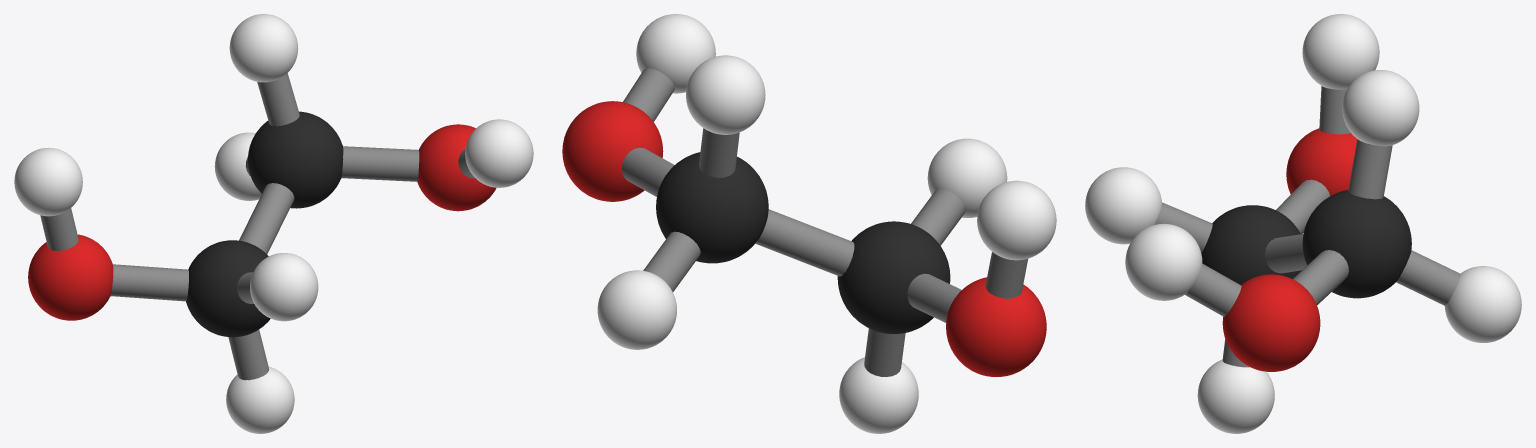
File: ethan-1-2-diol.glb
The picture shows the model from 3 angles, left to right: view 1: azimuth 30°, elevation 25°; view 2: azimuth 150°, elevation 25°; view 3: azimuth 270°, elevation 25°; orthographic projection. The views are drawn at different scales.
Parts seen in each view (by area): view 1: C_2, C_1, O_0, O_3, H_4, H_9, H_6, H_7, H_5, B2, B0, B1 (+4 smaller); view 2: C_2, C_1, O_0, O_3, H_4, H_7, H_8, H_5, H_9, H_6, B1, B7 (+7 smaller); view 3: C_2, O_3, C_1, H_7, H_9, H_8, H_6, H_4, H_5, O_0, B7, B6 (+6 smaller).
Boxes of the visible parts, left/top/right/bottom form: C_2: left=248, top=111, right=343, bottom=208; C_1: left=186, top=240, right=270, bottom=337; O_0: left=28, top=234, right=113, bottom=320; O_3: left=417, top=124, right=496, bottom=211; H_4: left=14, top=147, right=82, bottom=216; H_9: left=465, top=119, right=533, bottom=187; H_6: left=250, top=253, right=318, bottom=321; H_7: left=229, top=14, right=298, bottom=82; H_5: left=226, top=366, right=294, bottom=433; B2: left=341, top=146, right=419, bottom=181; B0: left=110, top=264, right=188, bottom=301; B1: left=239, top=183, right=294, bottom=254; C_2: left=656, top=152, right=768, bottom=263; C_1: left=837, top=221, right=950, bottom=333; O_0: left=946, top=277, right=1046, bottom=377; O_3: left=562, top=101, right=663, bottom=201; H_4: left=977, top=180, right=1056, bottom=260; H_7: left=686, top=55, right=765, bottom=134; H_8: left=597, top=270, right=676, bottom=349; H_5: left=839, top=357, right=918, bottom=433; H_9: left=636, top=14, right=715, bottom=93; H_6: left=927, top=138, right=1007, bottom=217; B1: left=755, top=209, right=854, bottom=276; B7: left=643, top=231, right=700, bottom=291; C_2: left=1302, top=190, right=1411, bottom=298; O_3: left=1222, top=274, right=1320, bottom=371; C_1: left=1201, top=205, right=1301, bottom=284; H_7: left=1342, top=70, right=1419, bottom=146; H_9: left=1125, top=223, right=1202, bottom=300; H_8: left=1444, top=266, right=1521, bottom=342; H_6: left=1085, top=167, right=1161, bottom=244; H_4: left=1302, top=14, right=1379, bottom=89; H_5: left=1197, top=359, right=1274, bottom=433; O_0: left=1286, top=128, right=1357, bottom=195; B7: left=1396, top=250, right=1460, bottom=305; B6: left=1348, top=139, right=1392, bottom=199.
Bounding box in the file's own units: 4.51 × 3.38 × 3.39.
